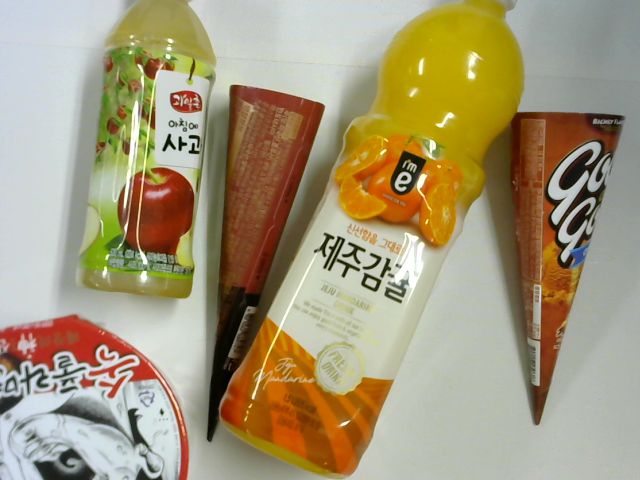GooGoo_Cone_CVS: (501, 103, 628, 425)
Hejangpul: (1, 315, 190, 479)
Jeju_Tangerine_1.5L: (217, 1, 526, 478)
Morning_Apple_500ml: (71, 1, 219, 300)
World_Cone_Choco: (208, 82, 321, 444)
